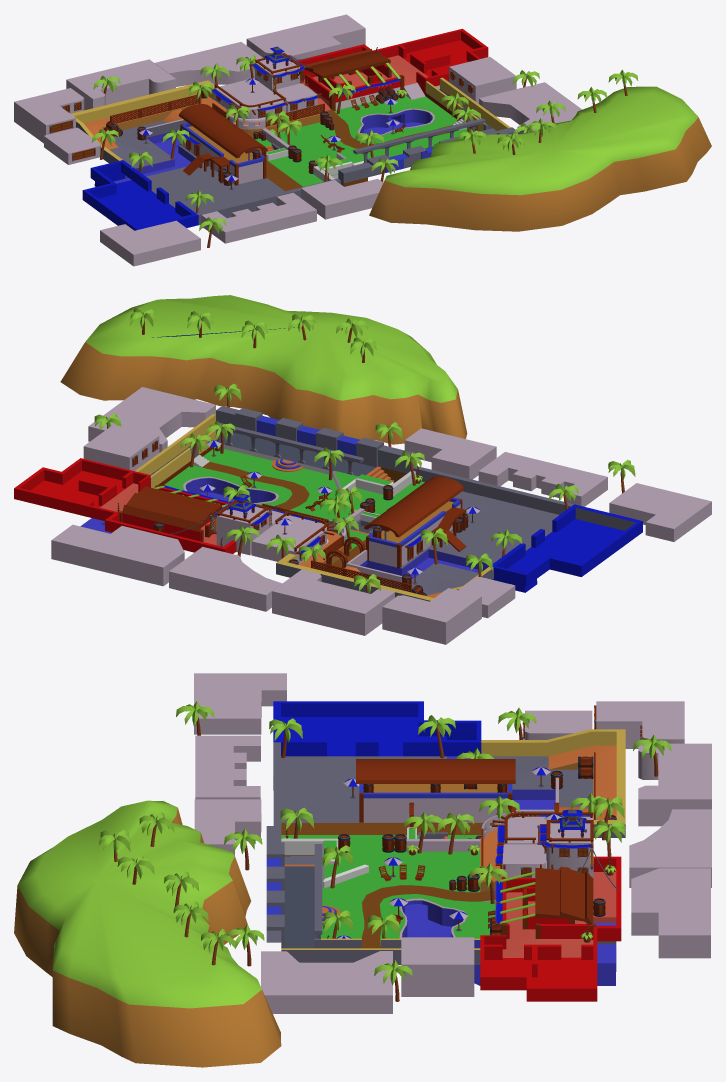
File: ステージ3.fbx
3 views of the same model, one above another, from view 1: azimuth 30°, elevation 25°; view 2: azimuth 150°, elevation 25°; view 3: azimuth 270°, elevation 25° (orthographic). The views are drawn at different scales.
Visible parts, largest first — view 1: TIKEI, 崖, 背景, 木, 高台, obj2, obj1, obj3, obj8, タル, KABE, obj4 (+2 smaller); view 2: TIKEI, 崖, 背景, 木, 高台, obj1, obj2, obj8, obj3, obj4, タル, KABE (+1 smaller); view 3: TIKEI, 崖, 背景, 木, 高台, obj2, obj8, obj1, タル, KABE, obj4, パラソル.
Part boxes in pixels (box(x1,y1,x2,y2)): TIKEI: box(70, 28, 514, 230); 崖: box(369, 86, 711, 231); 背景: box(14, 14, 581, 266); 木: box(92, 55, 638, 247); 高台: box(178, 104, 267, 185); obj2: box(211, 46, 321, 118); obj1: box(338, 118, 515, 185); obj3: box(110, 95, 324, 129); obj8: box(304, 49, 400, 94); タル: box(103, 57, 398, 185); KABE: box(304, 64, 400, 102); obj4: box(266, 148, 371, 175); TIKEI: box(14, 414, 642, 601); 崖: box(60, 295, 467, 444); 背景: box(51, 387, 711, 644); 木: box(94, 308, 635, 593); 高台: box(364, 476, 466, 568); obj1: box(216, 406, 417, 474); obj2: box(209, 493, 337, 563); obj8: box(122, 486, 227, 531); obj3: box(262, 503, 411, 592); obj4: box(332, 470, 393, 521); タル: box(154, 485, 468, 595); KABE: box(122, 487, 228, 541); TIKEI: box(273, 701, 625, 1001); 崖: box(14, 800, 281, 1067); 背景: box(194, 673, 711, 1013); 木: box(99, 701, 671, 1001); 高台: box(356, 759, 515, 822); obj2: box(491, 809, 593, 880); obj8: box(500, 866, 593, 924); obj1: box(266, 826, 341, 948); タル: box(338, 756, 616, 935); KABE: box(502, 878, 593, 938); obj4: box(322, 827, 416, 888); パラソル: box(336, 767, 561, 938).
Size of the model in its own units: 16883 by 2581 by 13170.
